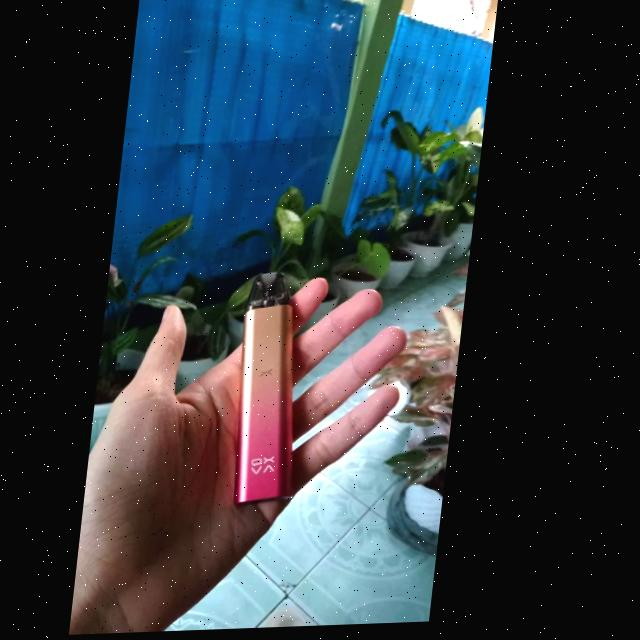vape: (234, 270, 327, 505)
